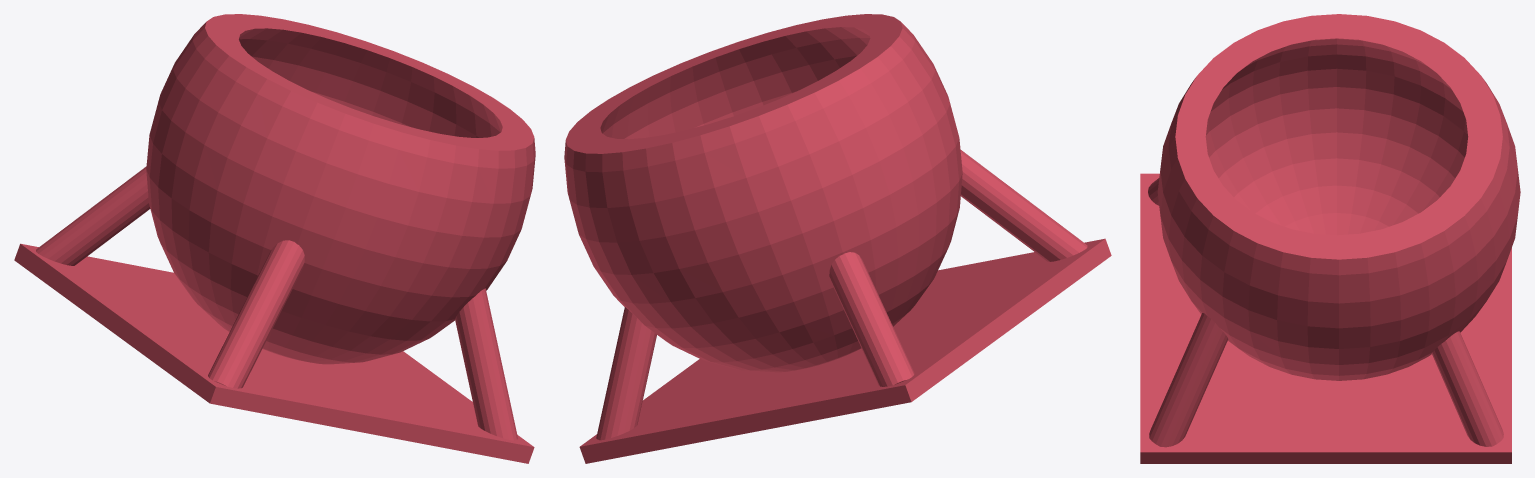
File: Plant-pot.glb
The picture shows the model from 3 angles, left to right: view 1: azimuth 30°, elevation 25°; view 2: azimuth 150°, elevation 25°; view 3: azimuth 270°, elevation 25°; orthographic projection. The views are drawn at different scales.
Visible parts, largest first — view 1: Mesh_Mesh_head_geo.001_lambert2SG.001; view 2: Mesh_Mesh_head_geo.001_lambert2SG.001; view 3: Mesh_Mesh_head_geo.001_lambert2SG.001.
Part boxes in pixels (box(x1,y1,x2,y2)): Mesh_Mesh_head_geo.001_lambert2SG.001: box(14, 14, 535, 463); Mesh_Mesh_head_geo.001_lambert2SG.001: box(564, 14, 1111, 463); Mesh_Mesh_head_geo.001_lambert2SG.001: box(1140, 14, 1520, 463).
Size of the model in its own units: 0.0514 by 0.0459 by 0.044.
